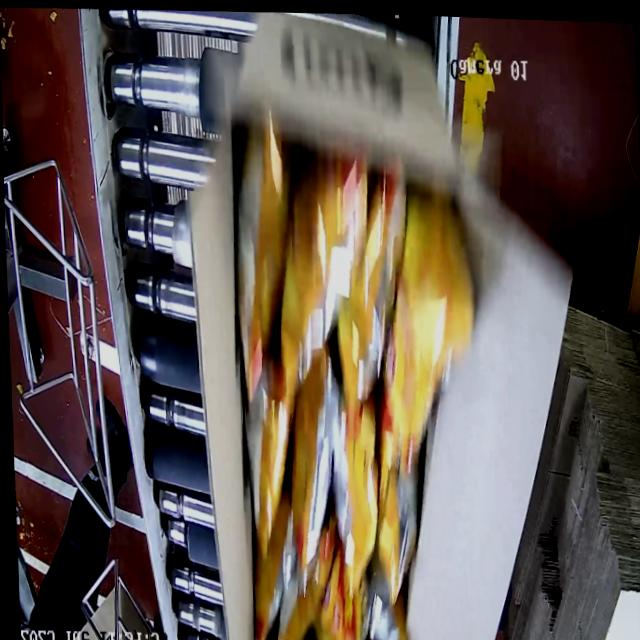FRENCH_CHEESE: (212, 135, 494, 640)
